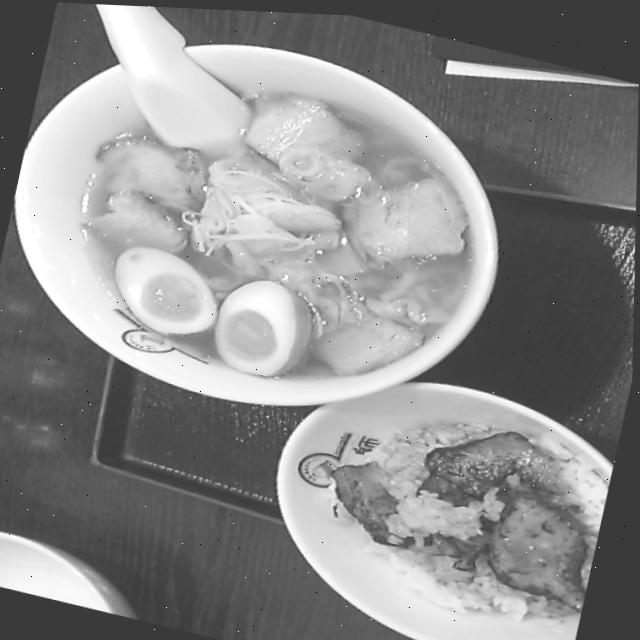面条主食: (0, 0, 547, 457)
